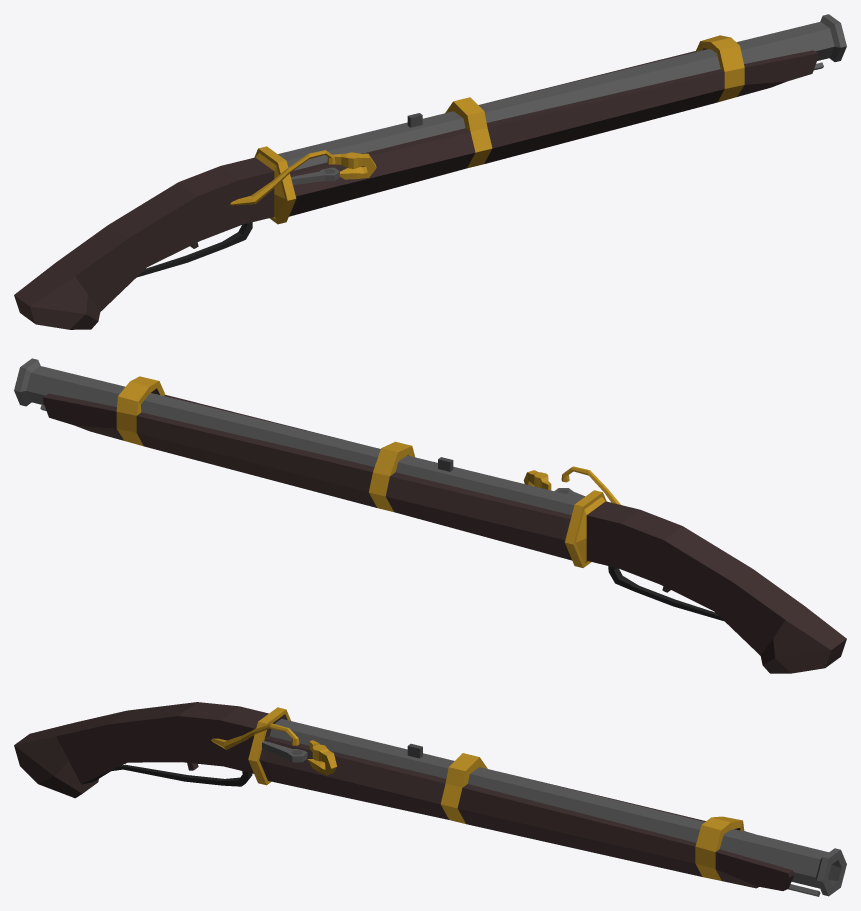
File: Tanegashima Matchlock_2.fbx
3 views of the same model, one above another, from view 1: azimuth 30°, elevation 25°; view 2: azimuth 150°, elevation 25°; view 3: azimuth 330°, elevation 25° (orthographic).
Parts seen in each view (by area): view 1: Tanegashima Matchlock_2; view 2: Tanegashima Matchlock_2; view 3: Tanegashima Matchlock_2.
Boxes of the visible parts, x1,y1,x2,y2 form: Tanegashima Matchlock_2: [14, 14, 846, 329]; Tanegashima Matchlock_2: [14, 358, 846, 673]; Tanegashima Matchlock_2: [14, 702, 846, 896].
Bounding box in the file's own units: 120 × 18.68 × 10.79.
